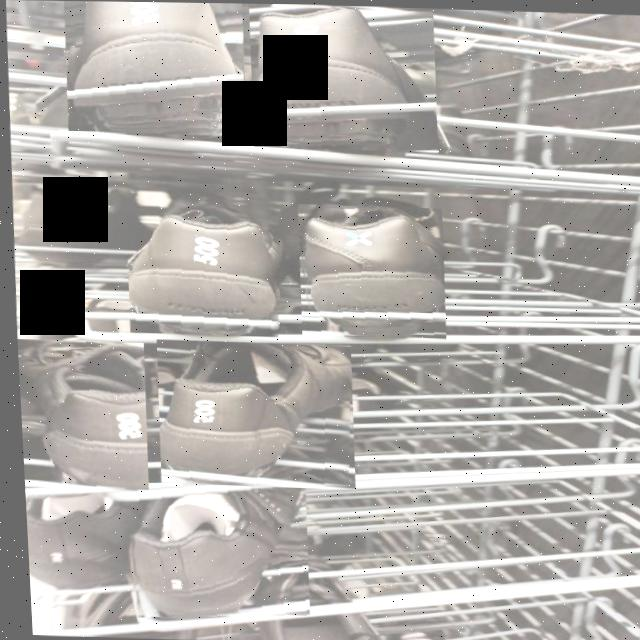shoe: (150, 339, 352, 488), (247, 5, 438, 151), (118, 481, 305, 621), (61, 1, 246, 135), (121, 191, 283, 336), (293, 202, 445, 339), (14, 338, 146, 489)
